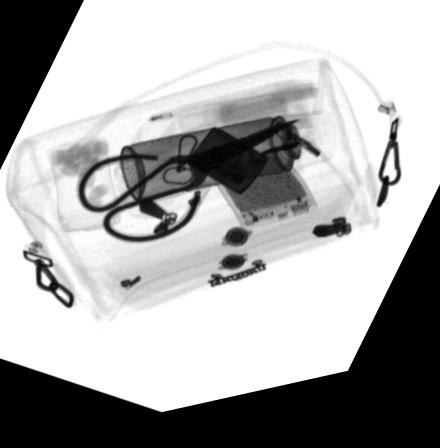Lighter: (186, 131, 273, 205)
Powerbank: (183, 123, 318, 241)
Scissors: (76, 127, 302, 248)
Sprayer: (118, 125, 332, 207)
